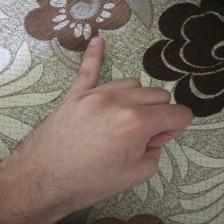five: (38, 33, 199, 206)
